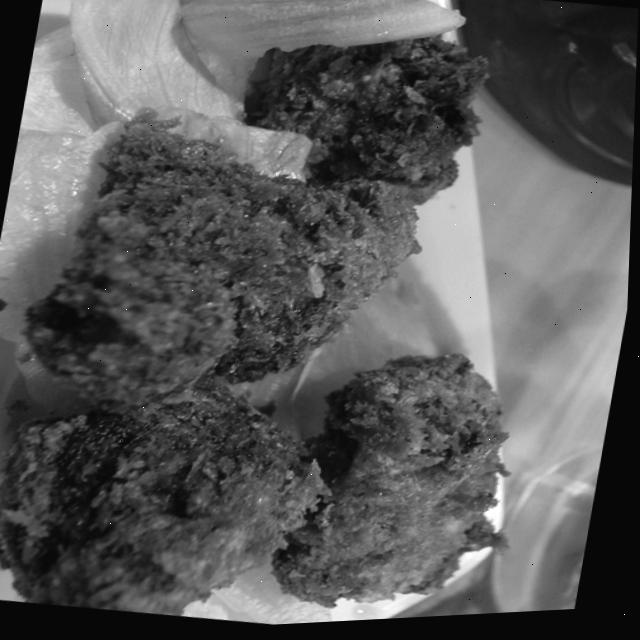牛肉菜式: (0, 0, 597, 640)
